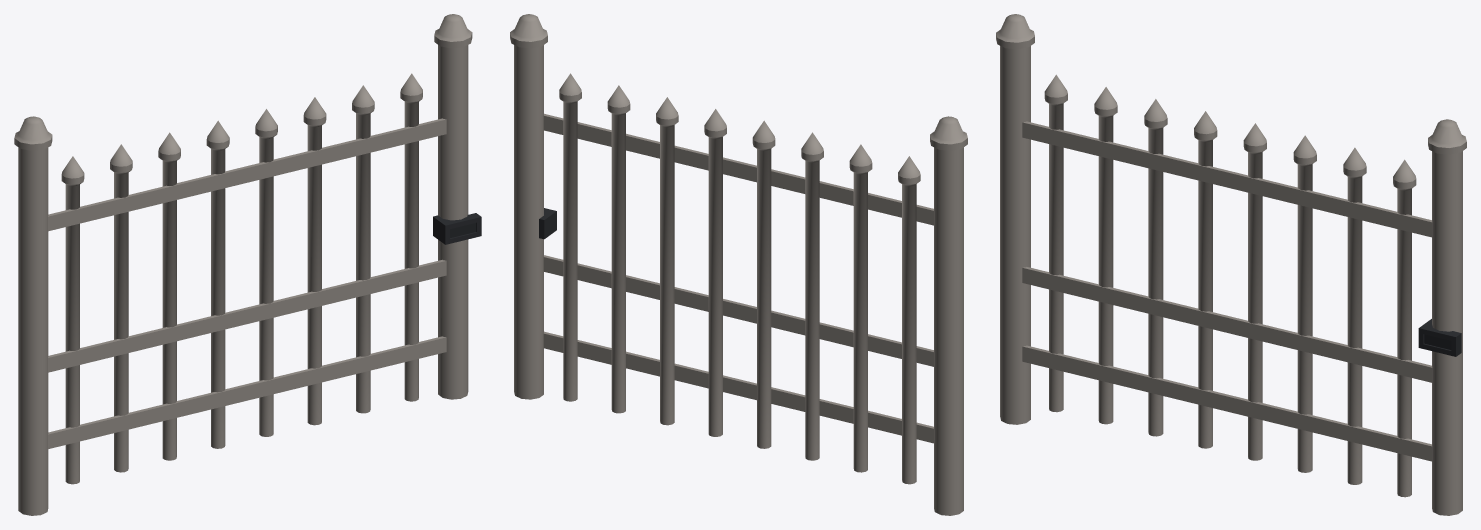
File: FenceDoorTile_1.fbx
3 renders of one model, left to right at view 1: azimuth 30°, elevation 25°; view 2: azimuth 150°, elevation 25°; view 3: azimuth 330°, elevation 25°, orthographic. The views are drawn at different scales.
Parts seen in each view (by area): view 1: FenceDoorTile_1; view 2: FenceDoorTile_1; view 3: FenceDoorTile_1.
Part boxes in pixels (bbox=[...]): FenceDoorTile_1: bbox=[14, 14, 481, 515]; FenceDoorTile_1: bbox=[510, 14, 967, 515]; FenceDoorTile_1: bbox=[996, 14, 1466, 515].
Bounding box in the file's own units: 341 × 280 × 25.58.
